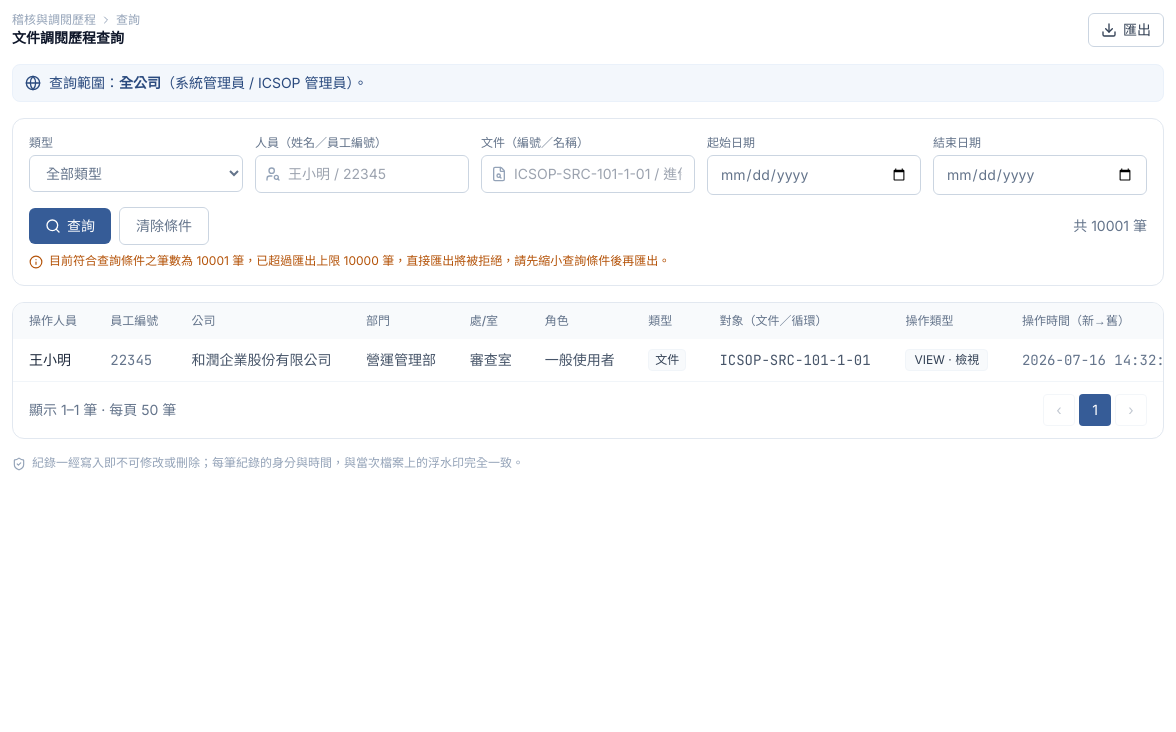
AccessHistoryPage 匯出（AC-F19 超限之事前提示，off-by-one 邊界） › 🔴 事前提示與 AC-F9 ② 錯誤回饋可同時可見，且以容器定位互不混淆（不得用全頁 getByText 正則）
This screenshot has width=1176, height=732.
Expected: the element with id "export-limit-hint" is shown, [29,253,670,269]
Click the button "匯出": (1126, 30) [1088,13,1164,47]
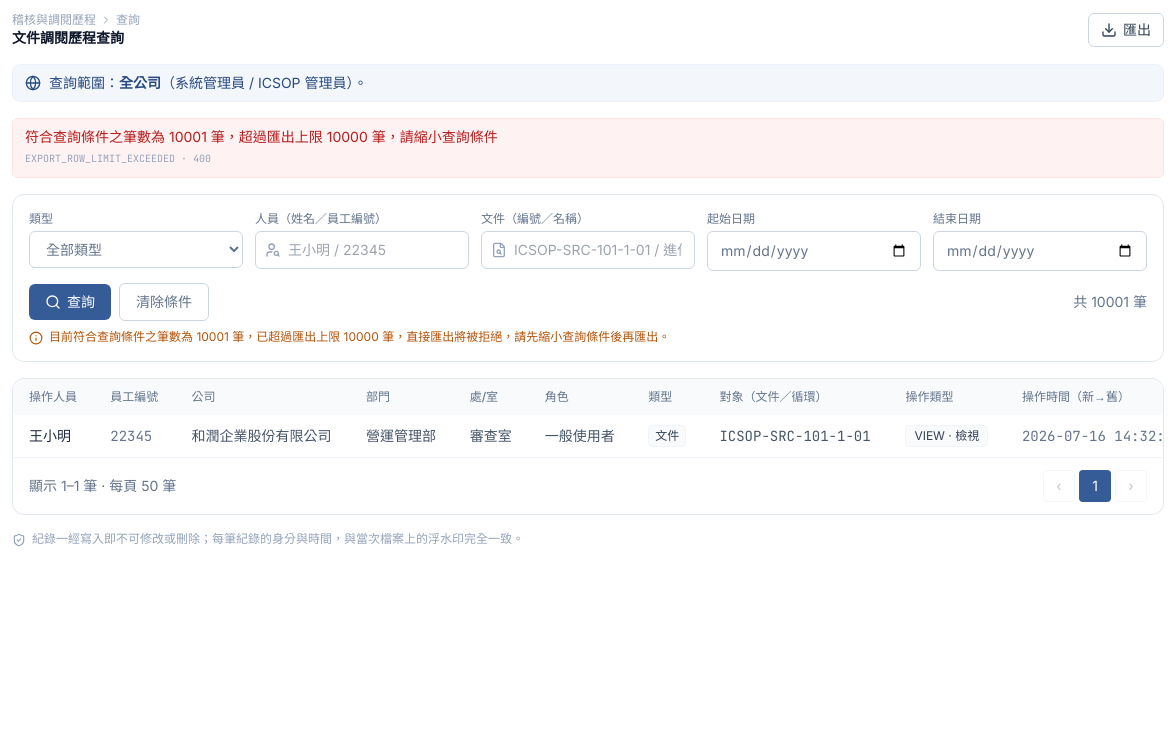
Expected: the element with id "export-limit-hint" shows "直接匯出將被拒絕", [49,329,670,344]
Expected: the message shows "符合查詢條件之筆數為 10001 筆，超過匯出上限 10000 筆，請縮小查詢條件", [25,128,498,145]
